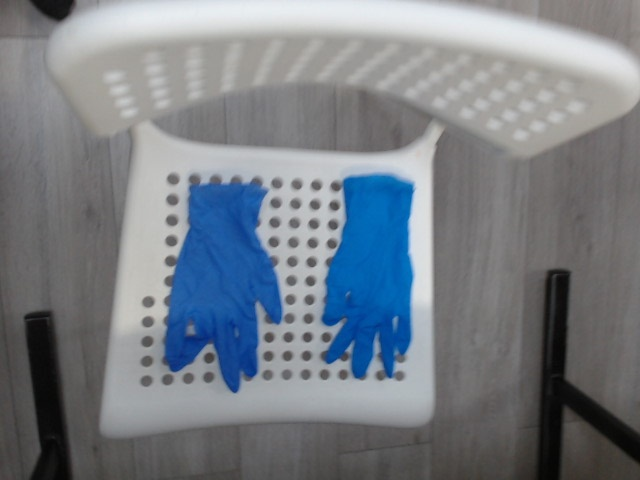medical_glove: (165, 184, 284, 391), (324, 175, 417, 376)
